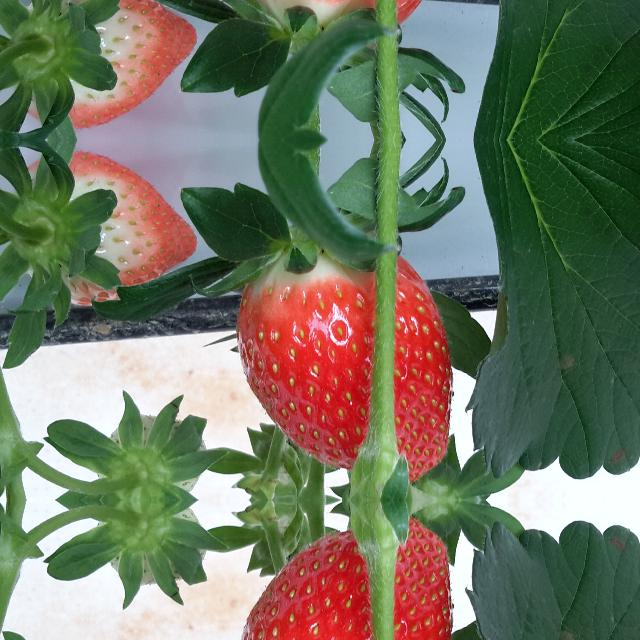Health_100: (235, 256, 452, 478), (235, 521, 452, 640), (12, 152, 198, 288), (12, 0, 198, 128)
